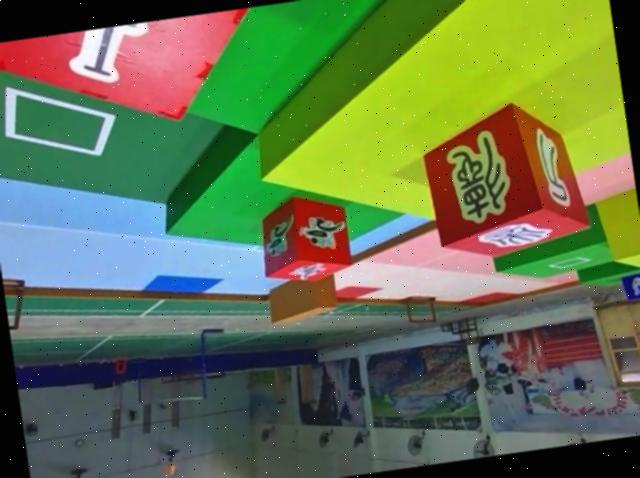R1: (255, 191, 356, 288)
R2 Fake: (419, 95, 593, 266)
R2 Real: (0, 7, 268, 149)
